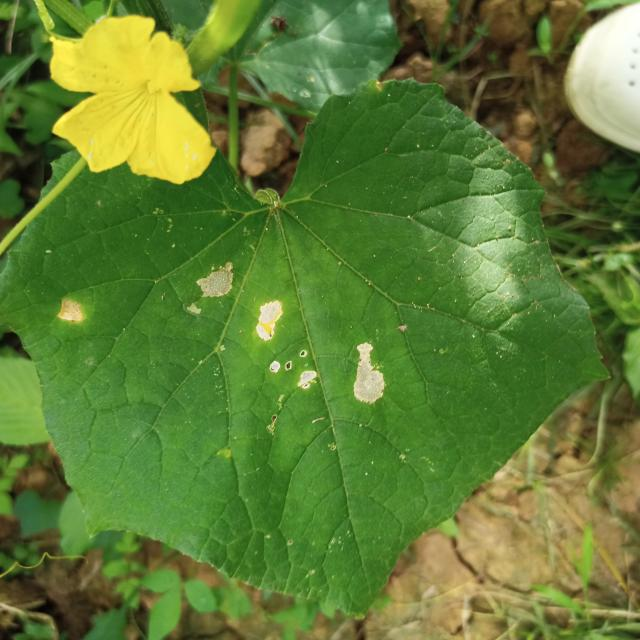disease_cucumber: (187, 261, 385, 406), (58, 297, 84, 326)
